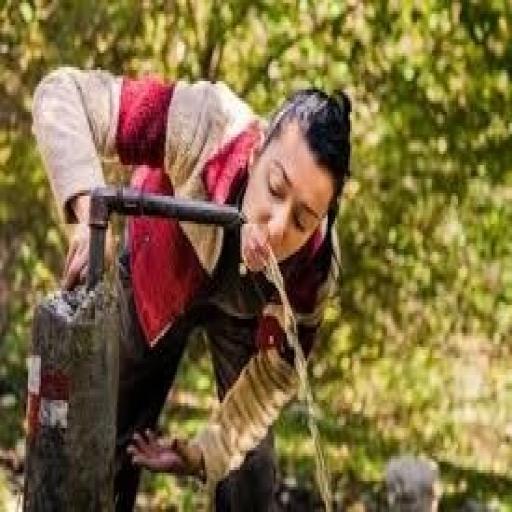drinking: (24, 64, 352, 510)
